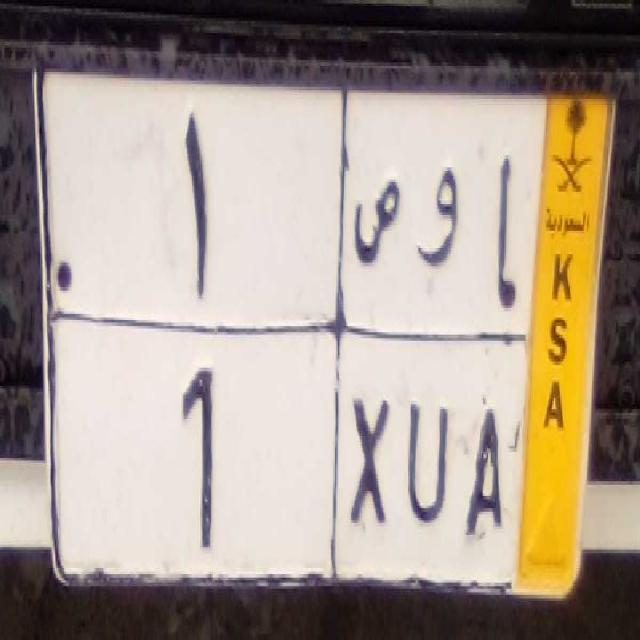license_plate: (46, 320, 521, 604)
